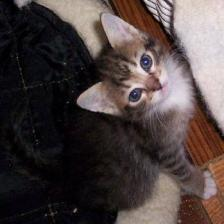cat: (77, 8, 199, 133)
